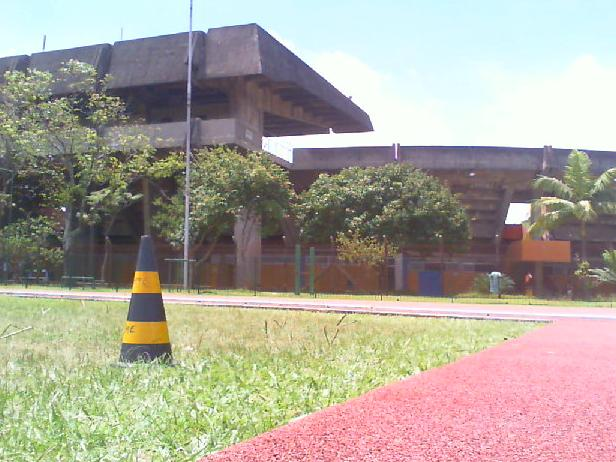0 cone: (110, 236, 179, 368)
